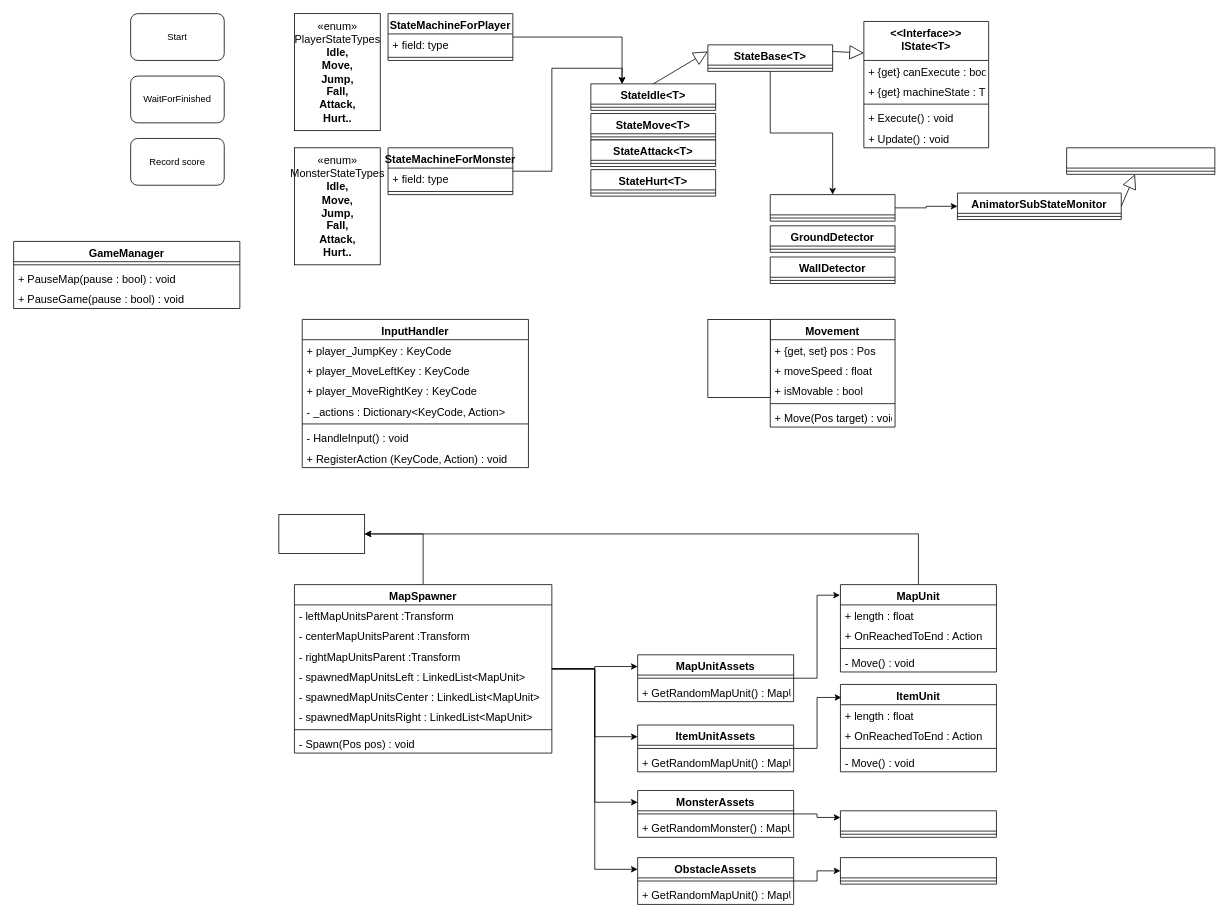
The diagram is 1229 pixels wide and 920 high, and some of its shapes have lost their labels. The centre of each missing label's shape, as x and y in pixels:
"AnimationManager" goes at (x=832, y=207).
"Monster" goes at (x=918, y=823).
"ObjectPool" goes at (x=321, y=533).
"Obstacle" goes at (x=918, y=870).
"StateMachineBehavior" goes at (x=1140, y=160).
"«enum» Pos Center, Left, Right" goes at (x=738, y=358).
